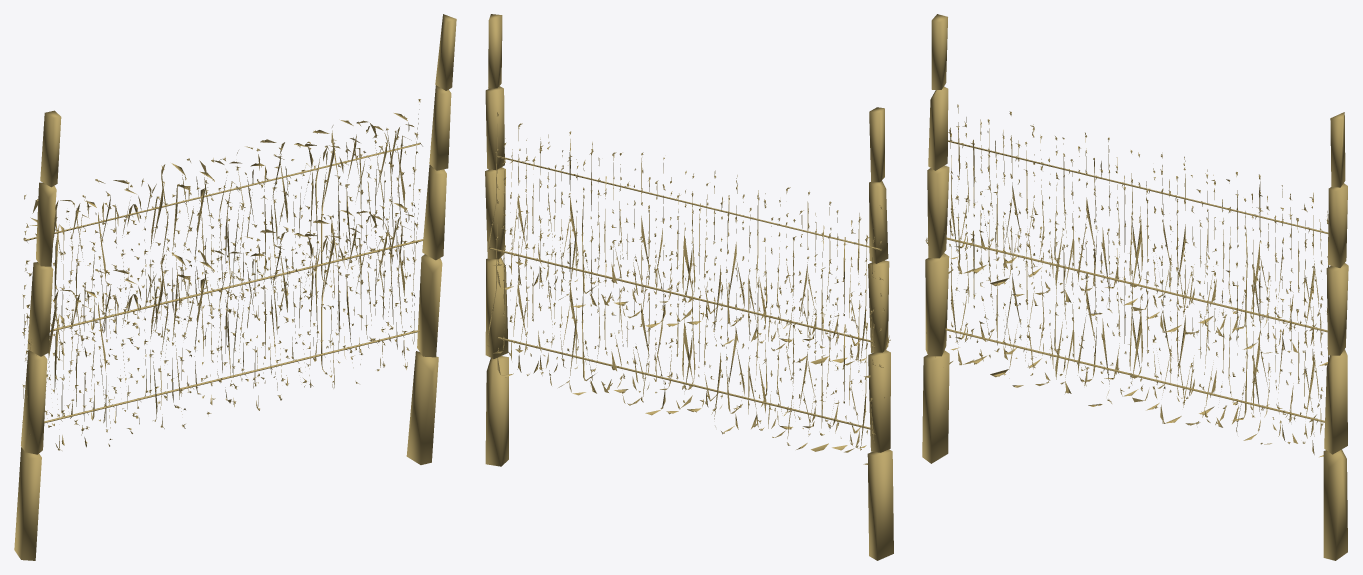
Rendered from bamboo_fence.glb.
3 views of the same model, side by side, from view 1: azimuth 30°, elevation 25°; view 2: azimuth 150°, elevation 25°; view 3: azimuth 330°, elevation 25° (orthographic). The views are drawn at different scales.
Visible parts, largest first — view 1: BambooFence; view 2: BambooFence; view 3: BambooFence.
Part boxes in pixels (<box>): BambooFence: <box>14,14,456,560</box>; BambooFence: <box>485,14,893,560</box>; BambooFence: <box>922,14,1348,560</box>.
Bounding box in the file's own units: 0.9875 × 0.9929 × 0.1073.
